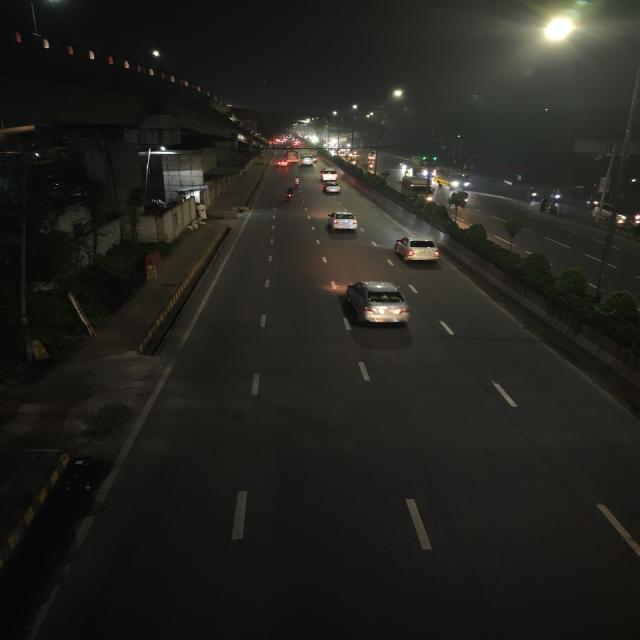bus: (438, 166, 474, 192), (299, 152, 313, 168), (286, 148, 299, 165)
car: (340, 266, 416, 334), (396, 226, 442, 266), (327, 208, 358, 232), (318, 166, 339, 182), (323, 180, 345, 195), (278, 159, 290, 167)
motorcycle: (285, 186, 298, 202), (528, 188, 539, 202), (292, 176, 304, 188)
pedestrian: (538, 196, 548, 213), (548, 200, 554, 215)
truck: (401, 176, 430, 198), (411, 154, 437, 178)
